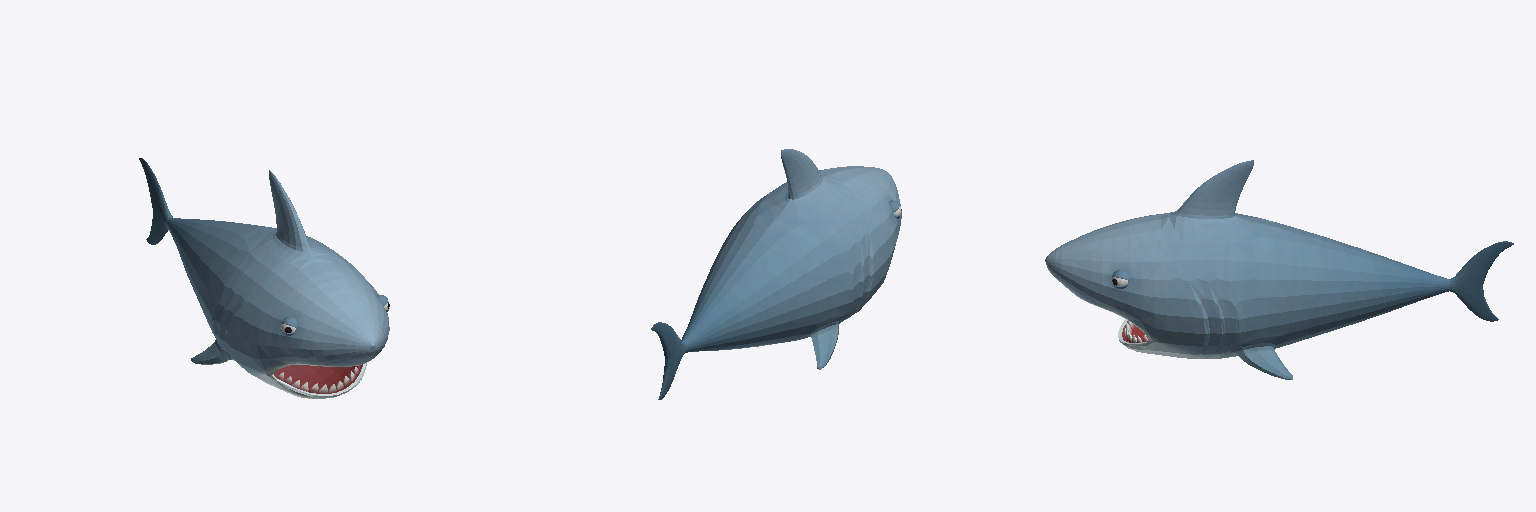
3 views of the same model, side by side, from view 1: azimuth 30°, elevation 25°; view 2: azimuth 150°, elevation 25°; view 3: azimuth 270°, elevation 25° (orthographic).
Visible parts, largest first — view 1: shark_body, shark_teeth; view 2: shark_body; view 3: shark_body.
Part boxes in pixels (x1,y1,x2,y2): shark_body: (139,158,389,398); shark_teeth: (278,365,359,393); shark_body: (651,149,901,399); shark_body: (1045,160,1513,379).
Bounding box in the file's own units: 140 × 190 × 421.
Materials: 1 (1 with a texture image).